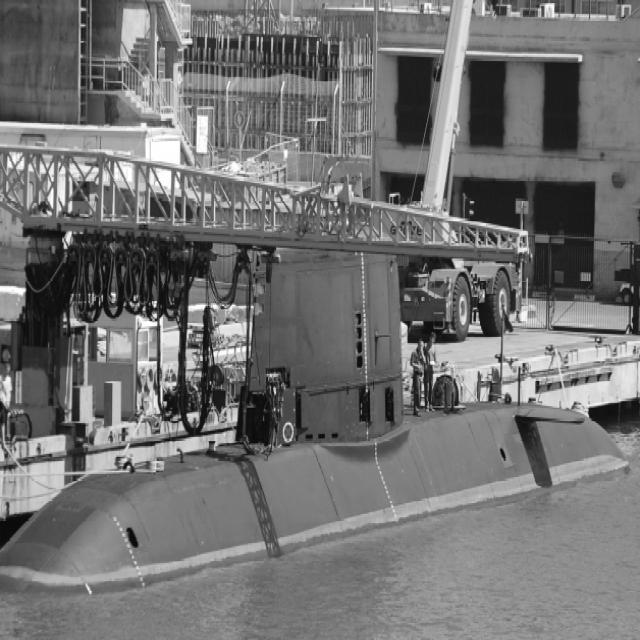submarine: (1, 184, 627, 604)
